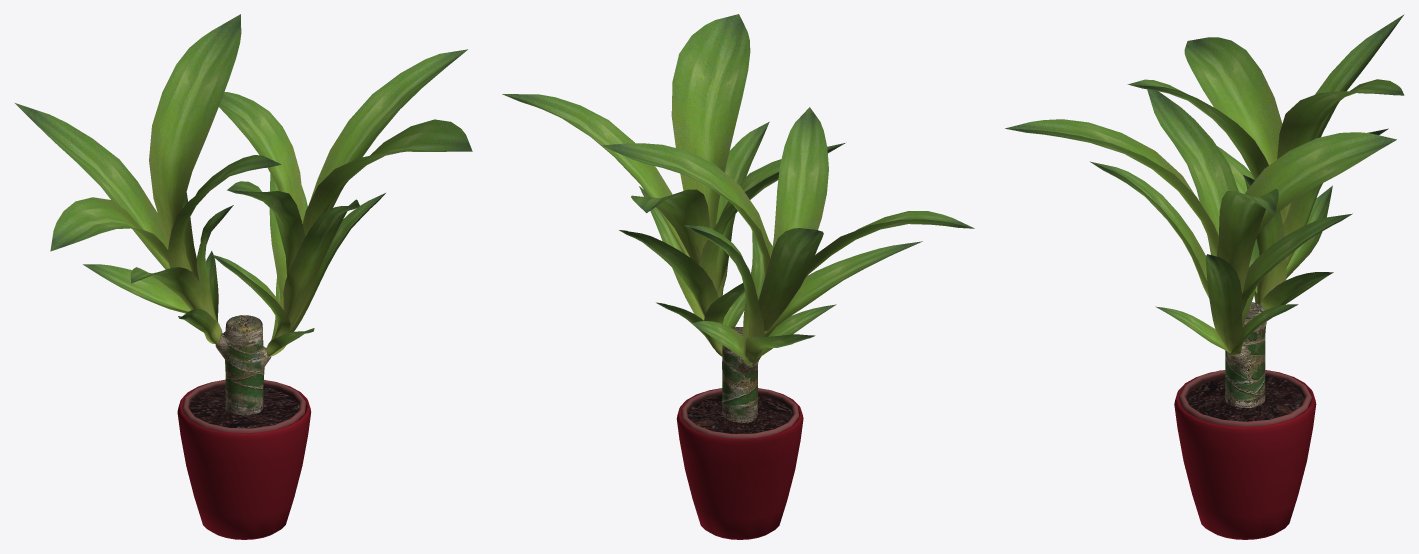
File: indoor plant.glb
The picture shows the model from 3 angles, left to right: view 1: azimuth 30°, elevation 25°; view 2: azimuth 150°, elevation 25°; view 3: azimuth 270°, elevation 25°; orthographic projection. The views are drawn at different scales.
Parts seen in each view (by area): view 1: indoor plant_02; view 2: indoor plant_02; view 3: indoor plant_02.
Part boxes in pixels (bbox=[...]): indoor plant_02: bbox=[15, 14, 472, 539]; indoor plant_02: bbox=[502, 14, 974, 539]; indoor plant_02: bbox=[1005, 14, 1404, 539].
Bounding box in the file's own units: 1.34 × 1.23 × 0.9559.
Materials: 1 (1 with a texture image).
